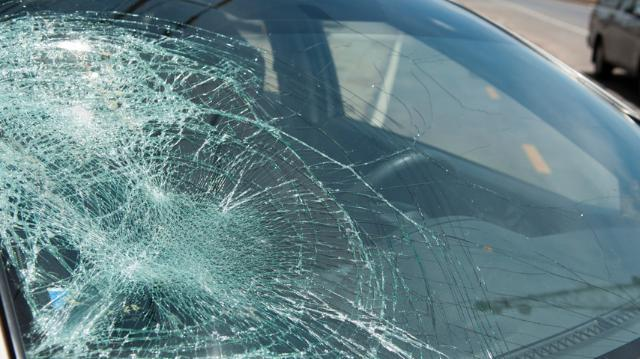Windshield: (2, 0, 547, 359)
